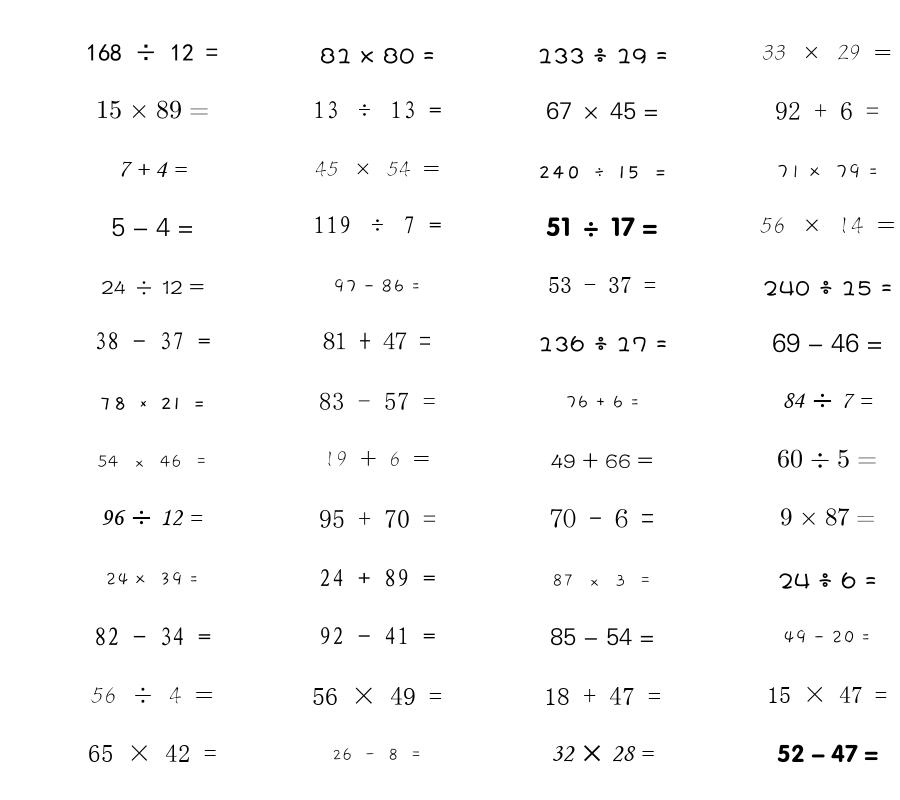MQ: (760, 216, 895, 234), (312, 687, 442, 705), (313, 101, 442, 119), (313, 216, 442, 234), (88, 744, 217, 762), (86, 44, 218, 61), (546, 217, 658, 237), (94, 627, 211, 646), (772, 333, 883, 353), (91, 686, 213, 704), (538, 335, 667, 352), (96, 100, 209, 119), (546, 101, 659, 120), (94, 332, 211, 350), (319, 392, 436, 410), (319, 510, 436, 528), (319, 569, 436, 587), (319, 627, 436, 645), (544, 687, 661, 705), (537, 48, 668, 64), (762, 44, 892, 60), (550, 508, 654, 528), (763, 280, 892, 296), (767, 686, 887, 703), (315, 161, 440, 177), (320, 47, 435, 64), (323, 332, 431, 350), (777, 744, 878, 763), (777, 449, 877, 468), (550, 628, 655, 646), (775, 102, 879, 120), (538, 165, 667, 179), (551, 745, 654, 762), (551, 452, 653, 469), (101, 509, 203, 526), (548, 277, 656, 293), (780, 508, 875, 526), (324, 451, 430, 467), (778, 572, 877, 589), (776, 163, 878, 179), (111, 218, 194, 237), (97, 454, 208, 468), (101, 280, 204, 295), (782, 393, 873, 409), (99, 397, 206, 410), (105, 572, 199, 586), (552, 574, 652, 587), (333, 279, 421, 293), (783, 630, 871, 644), (332, 748, 422, 761), (118, 161, 187, 177), (565, 395, 640, 409)
